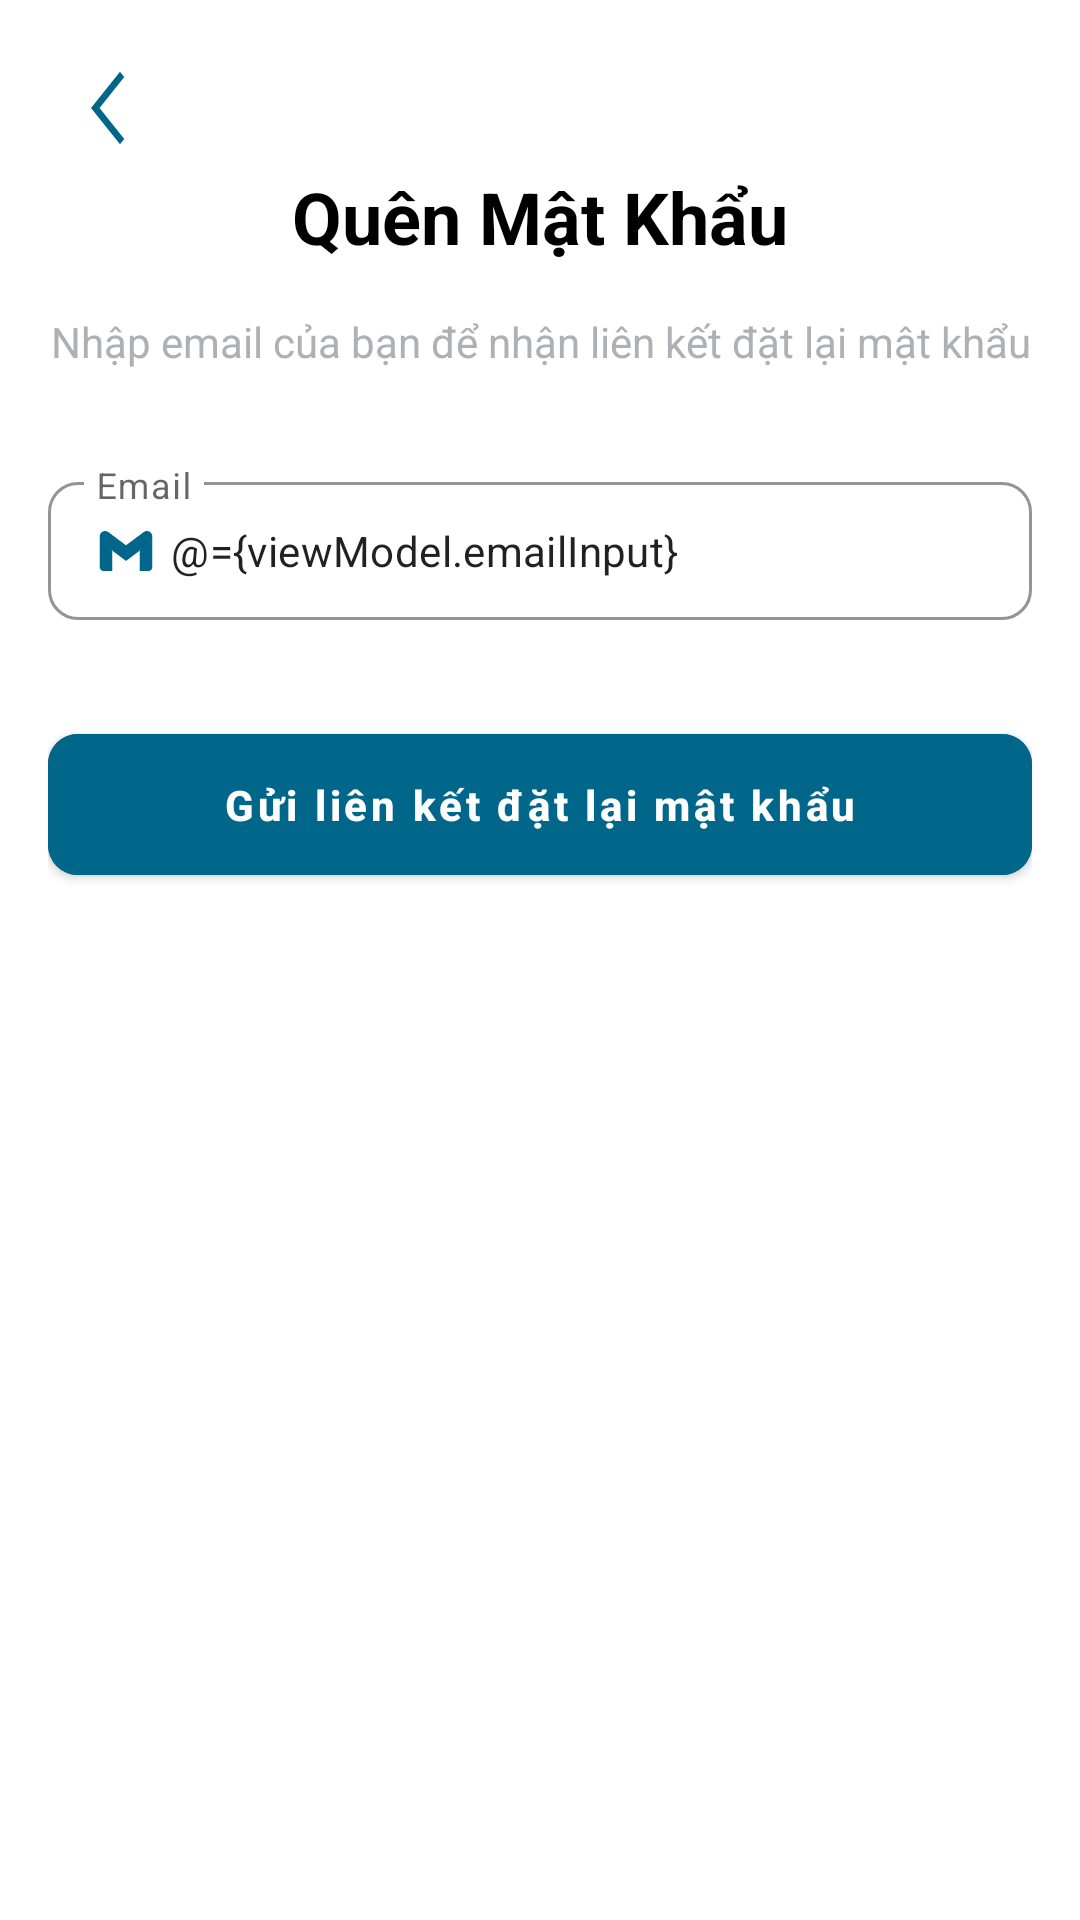

Screen size 1080×1920. Icon name, then its center in pixels as (x=x, y=y):
Back button: (x=107, y=108)
